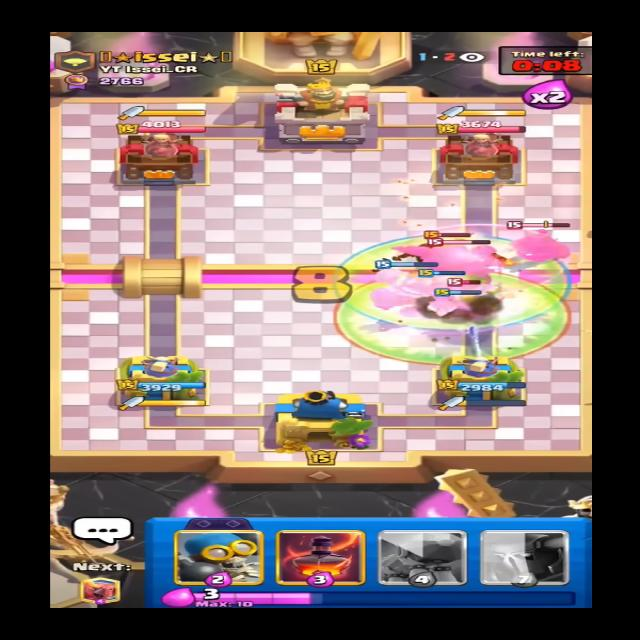goblin-curse: (331, 272, 570, 364)
goblin-demolisher: (502, 215, 574, 264)
phoenix: (406, 227, 501, 272)
